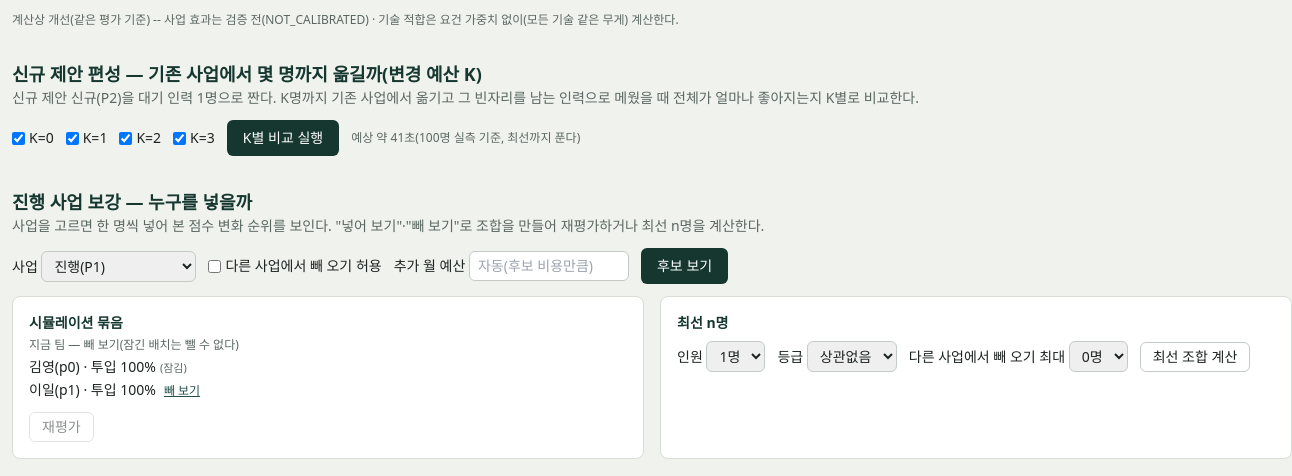
Test: OperatingTab — 리뷰 반영 › 후보 계산 중 사업을 바꾸면 늦게 온 이전 사업의 후보를 보이지 않는다(Codex 사후 리뷰 MUST)
Step 1. Click the button "후보 보기" → (685, 266), box [641,248,728,284]
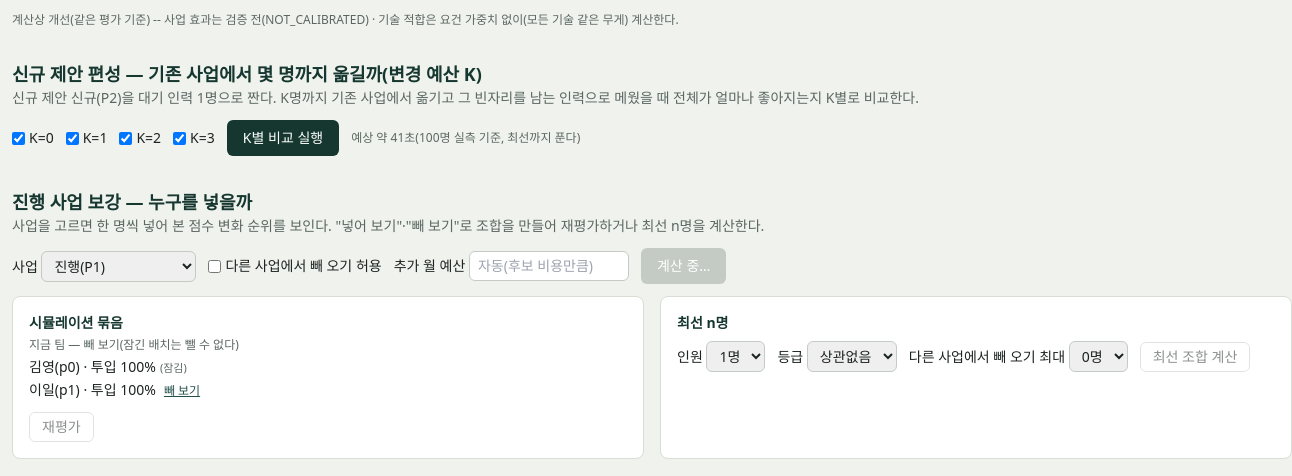
Step 2. Select "신규(P2) · 신규 제안" in the dropdown named "보강할 사업" → (119, 266), box [41,250,196,282]
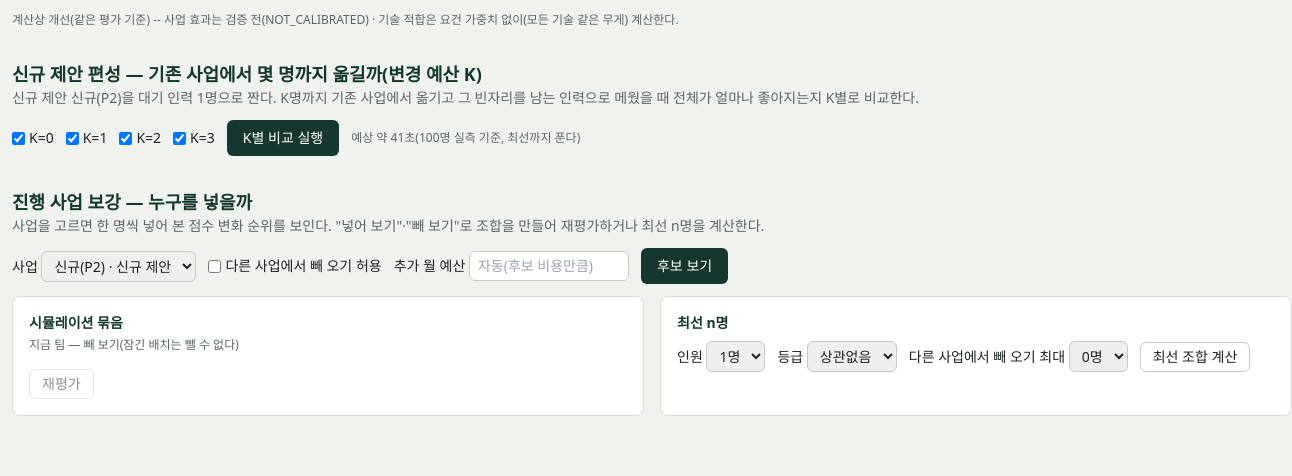
Now the button "후보 보기" is enabled, box [641,248,728,284]
